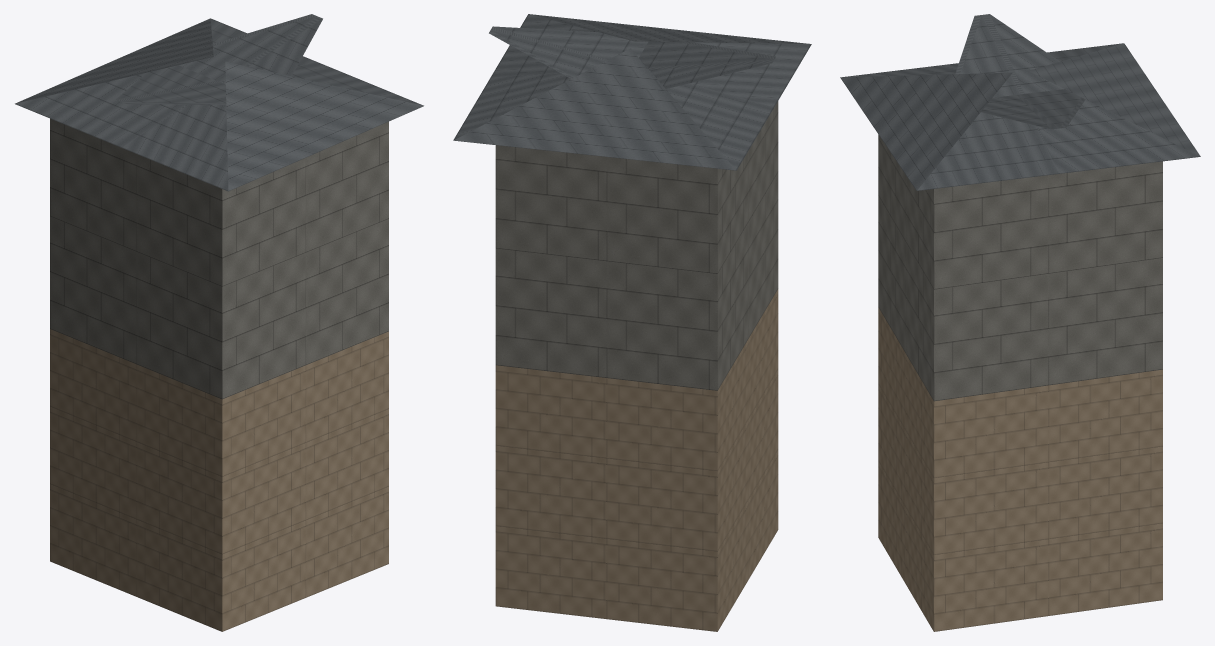
File: bld_c1_-1_535.gltf
3 renders of one model, left to right at view 1: azimuth 30°, elevation 25°; view 2: azimuth 150°, elevation 25°; view 3: azimuth 270°, elevation 25°, orthographic. The views are drawn at different scales.
Parts seen in each view (by area): view 1: bld_c1_-1_535; view 2: bld_c1_-1_535; view 3: bld_c1_-1_535.
Part boxes in pixels (x1,y1,x2,y2): bld_c1_-1_535: (15, 14, 423, 631); bld_c1_-1_535: (453, 14, 811, 631); bld_c1_-1_535: (840, 14, 1200, 631).
Bounding box in the file's own units: 6.99 × 11 × 7.2.
3 materials, 3 textured.
